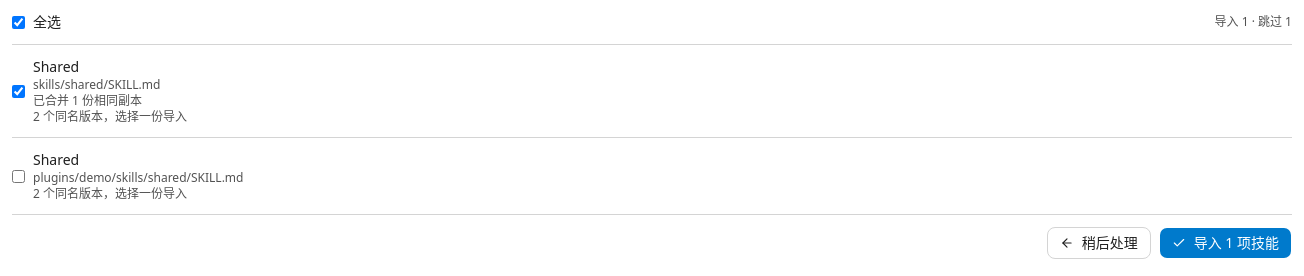
switches source variants without selecting both, including after select-all
Click the checkbox labelled "Shared plugins/demo/skills/shared/SKILL.md 2 个同名版本，选择一份导入": click(18, 176) [12,170,25,182]
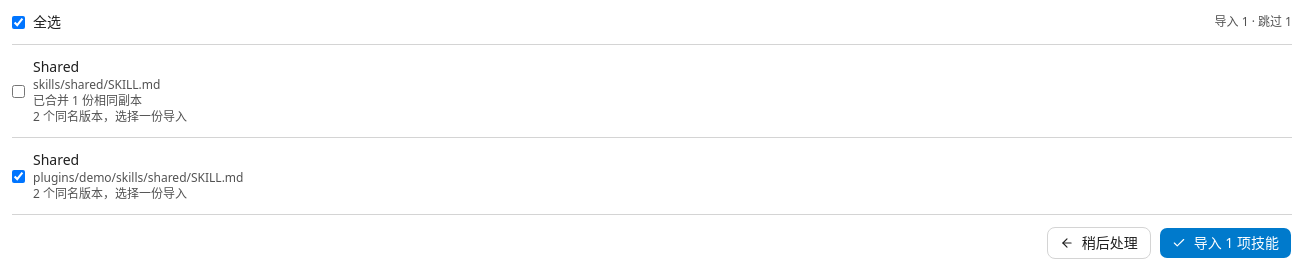
Expected: the checkbox labelled "Shared" is checked, [12,170,25,182]
Expected: the checkbox labelled "Shared" is not checked, [12,84,25,98]
Click the checkbox labelled "全选": click(18, 22) [12,16,25,28]
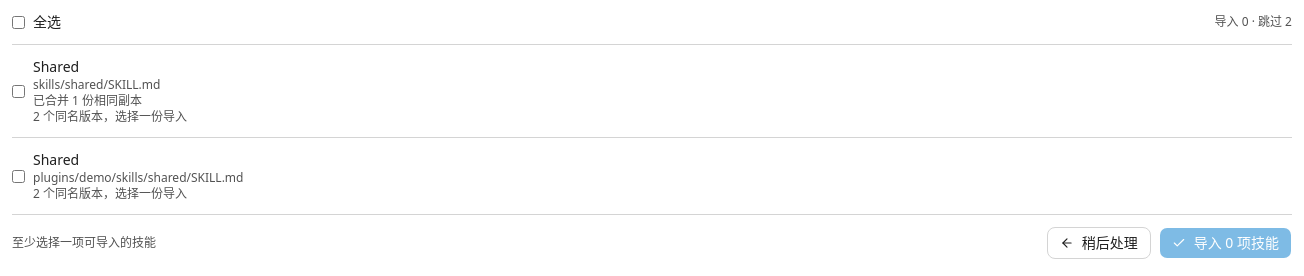
Click the checkbox labelled "全选": click(18, 22) [12,16,25,28]
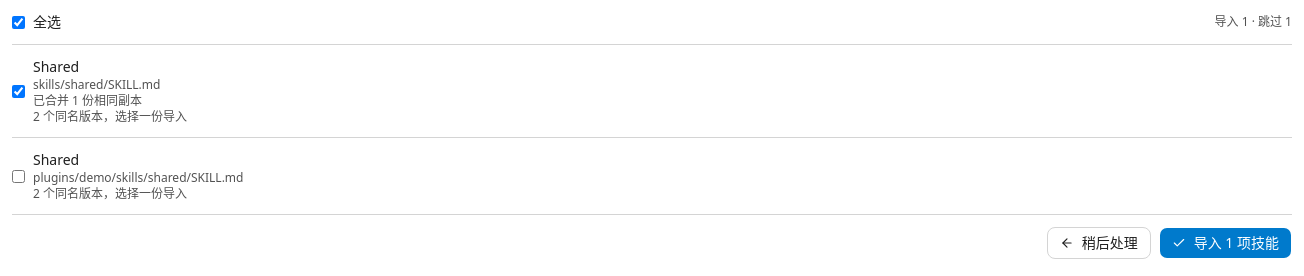
Expected: the checkbox labelled "Shared" is not checked, [12,170,25,182]
Expected: the checkbox labelled "Shared" is checked, [12,84,25,98]
